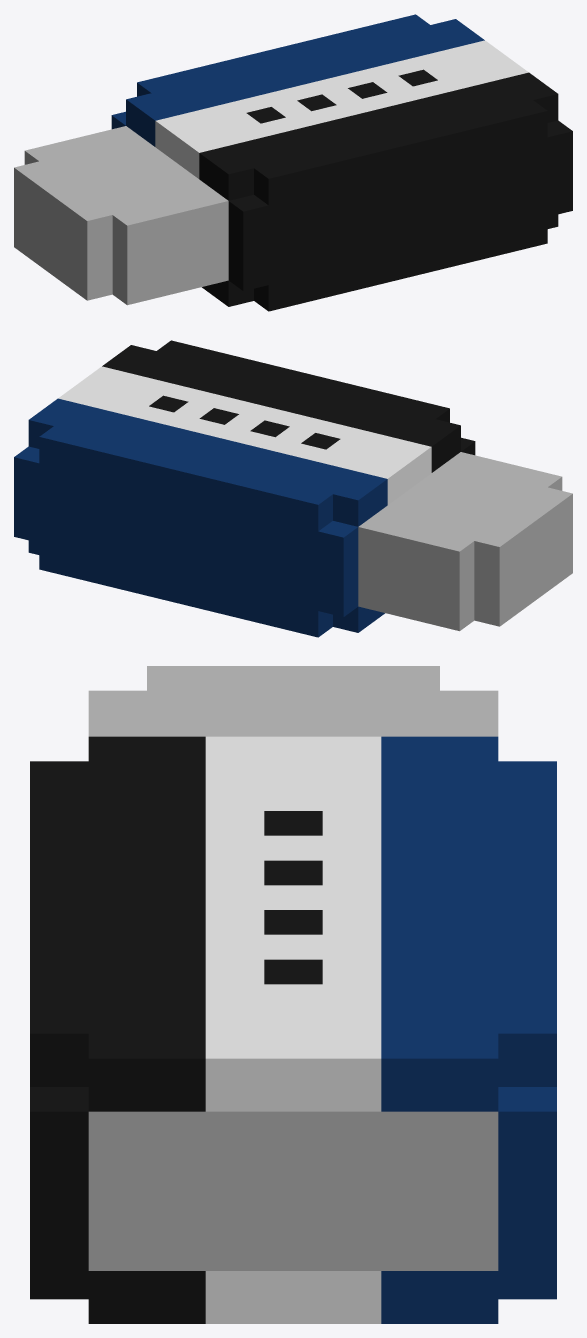
File: Eraser.obj
The picture shows the model from 3 angles, top to bottom: view 1: azimuth 30°, elevation 25°; view 2: azimuth 150°, elevation 25°; view 3: azimuth 270°, elevation 25°; orthographic projection. The views are drawn at different scales.
Visible parts, largest first — view 1: Untitled.001; view 2: Untitled.001; view 3: Untitled.001.
Part boxes in pixels (bbox=[...]): Untitled.001: bbox=[14, 14, 572, 311]; Untitled.001: bbox=[14, 340, 572, 637]; Untitled.001: bbox=[30, 666, 556, 1323].
Size of the model in its own units: 3.42 by 0.95 by 1.71.
1 material, 1 textured.
